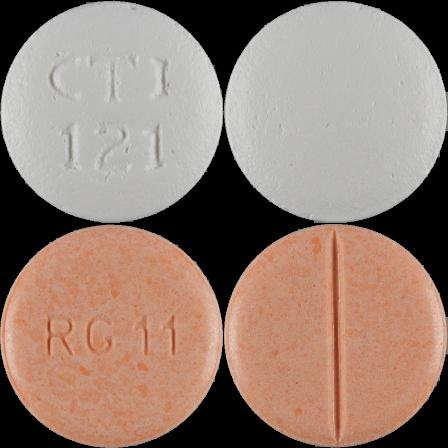49999-237: (0, 0, 224, 224)
